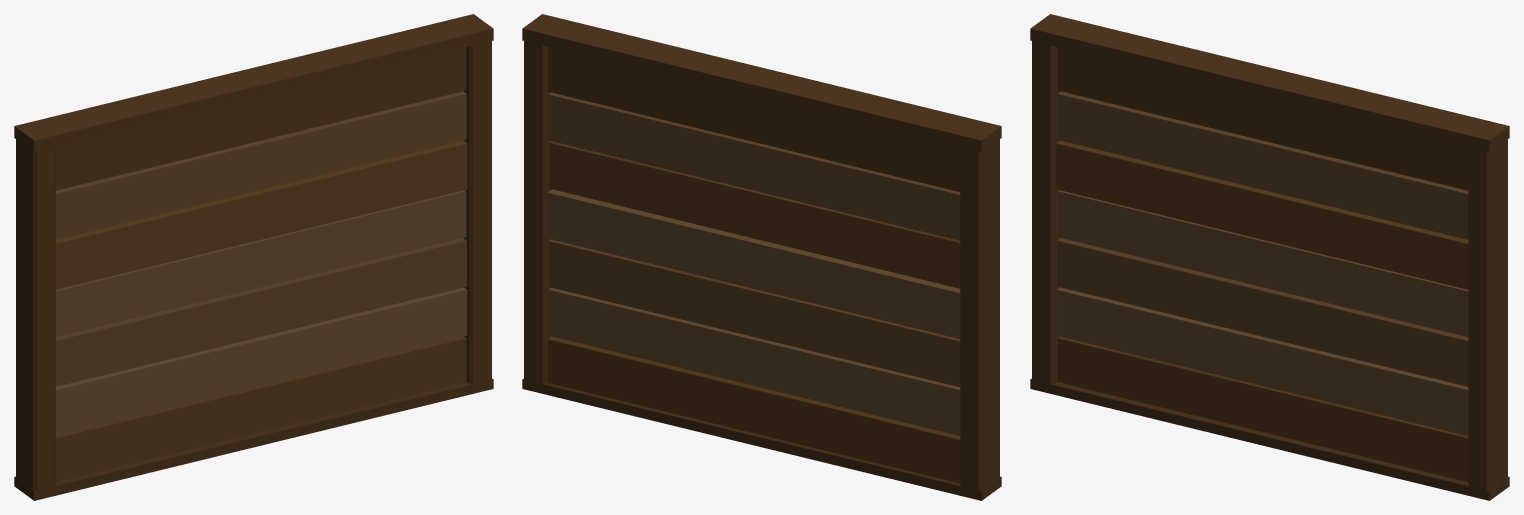
Rendered from Wall.glb.
3 renders of one model, left to right at view 1: azimuth 30°, elevation 25°; view 2: azimuth 150°, elevation 25°; view 3: azimuth 330°, elevation 25°, orthographic.
Visible parts, largest first — view 1: Body; view 2: Body; view 3: Body.
Boxes of the visible parts, <box> form: Body: <box>14,14,493,500</box>; Body: <box>522,14,1001,500</box>; Body: <box>1030,14,1509,500</box>.
Size of what is drawn, in the model's own units: 8 by 6 by 0.6.
